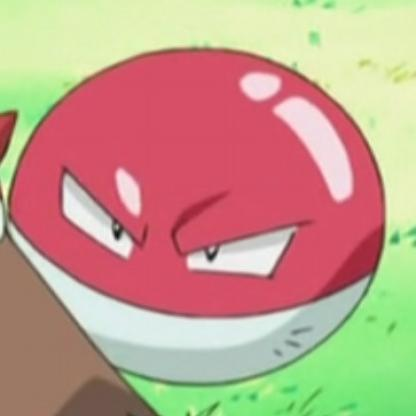Voltorb: (6, 34, 398, 387)
